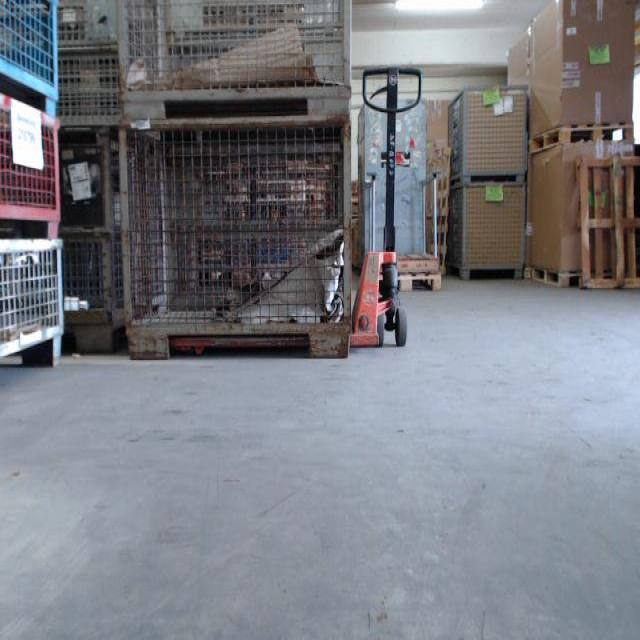pallet: (575, 156, 640, 291), (527, 121, 634, 157), (428, 145, 452, 279), (530, 265, 589, 290), (394, 272, 442, 294)
pallet_truck: (345, 61, 428, 351)
stillage: (121, 124, 348, 360), (120, 2, 350, 122), (2, 229, 70, 383), (1, 84, 65, 235), (447, 85, 529, 182), (451, 183, 527, 282), (2, 1, 64, 121), (57, 235, 119, 353), (42, 46, 114, 122), (51, 5, 117, 47)
